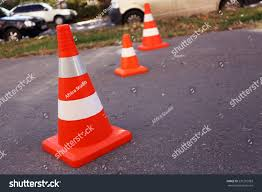car: (110, 1, 262, 25), (1, 8, 48, 41), (11, 4, 80, 26)
cone: (41, 22, 133, 169), (137, 5, 170, 52), (113, 34, 148, 78)
